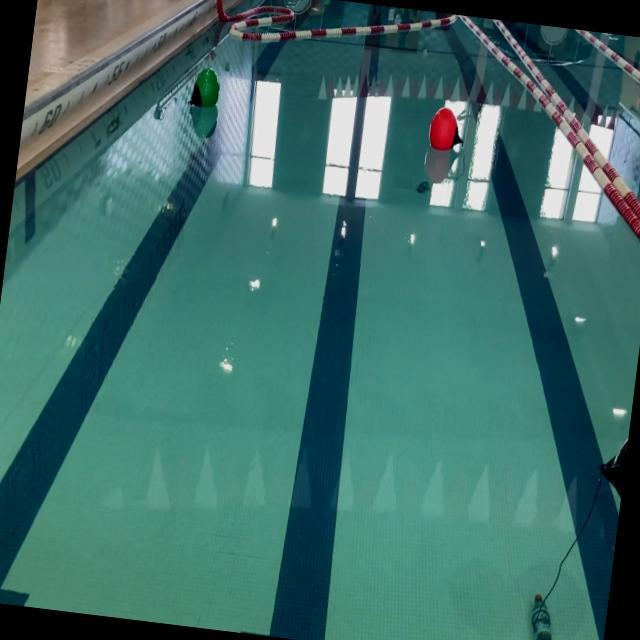buoy: (426, 106, 466, 153), (188, 68, 222, 110)
